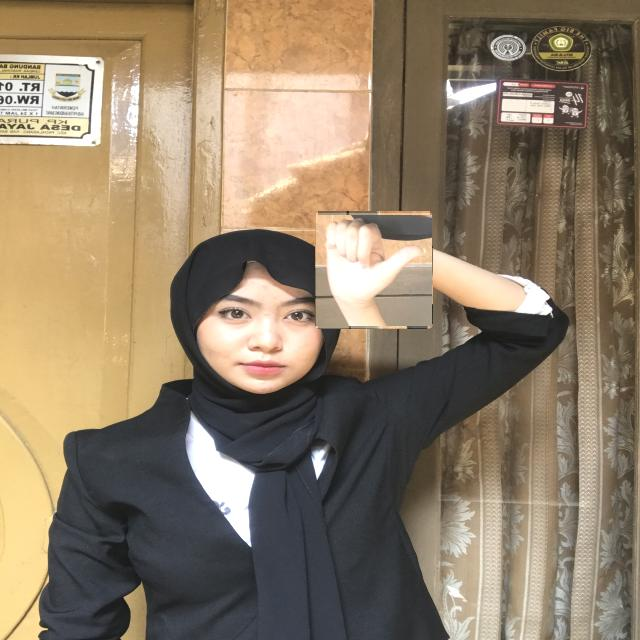sedih: (316, 213, 432, 328)
